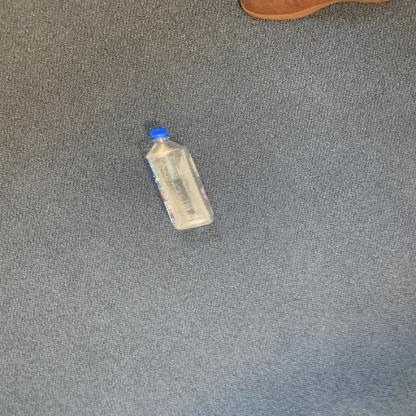trash: (143, 129, 219, 235)
